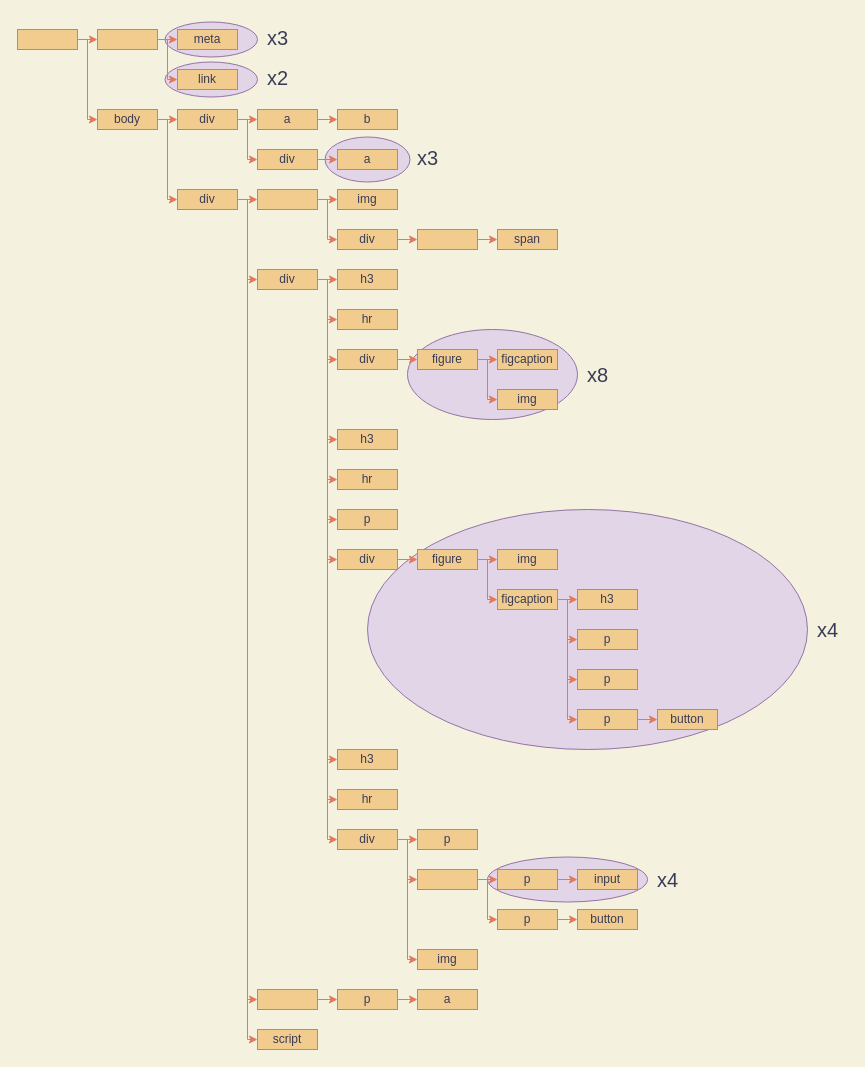
The diagram is 865 pixels wide and 1067 high, and some of its shapes have lost their labels. The centre of each missing label's shape, as x and y in pixels:
footer: the point at 287,999
form: the point at 447,879
h1: the point at 447,239
head: the point at 127,39
header: the point at 287,199
html: the point at 47,39
